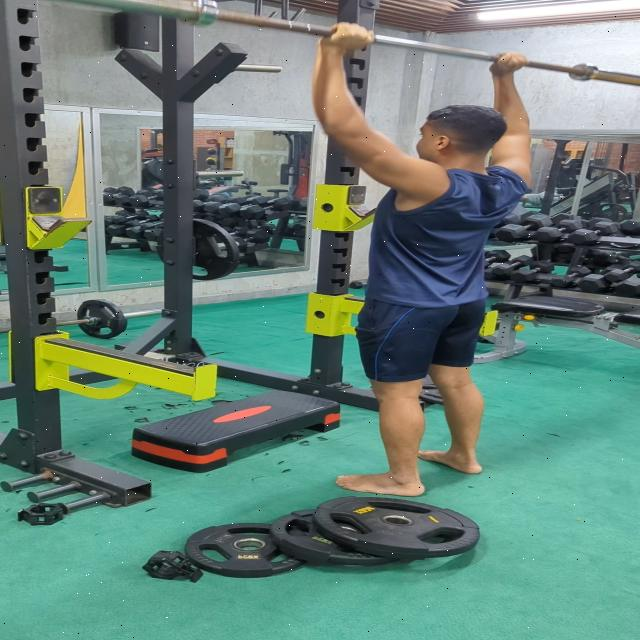Normal_OverheadPress: (234, 21, 569, 502)
